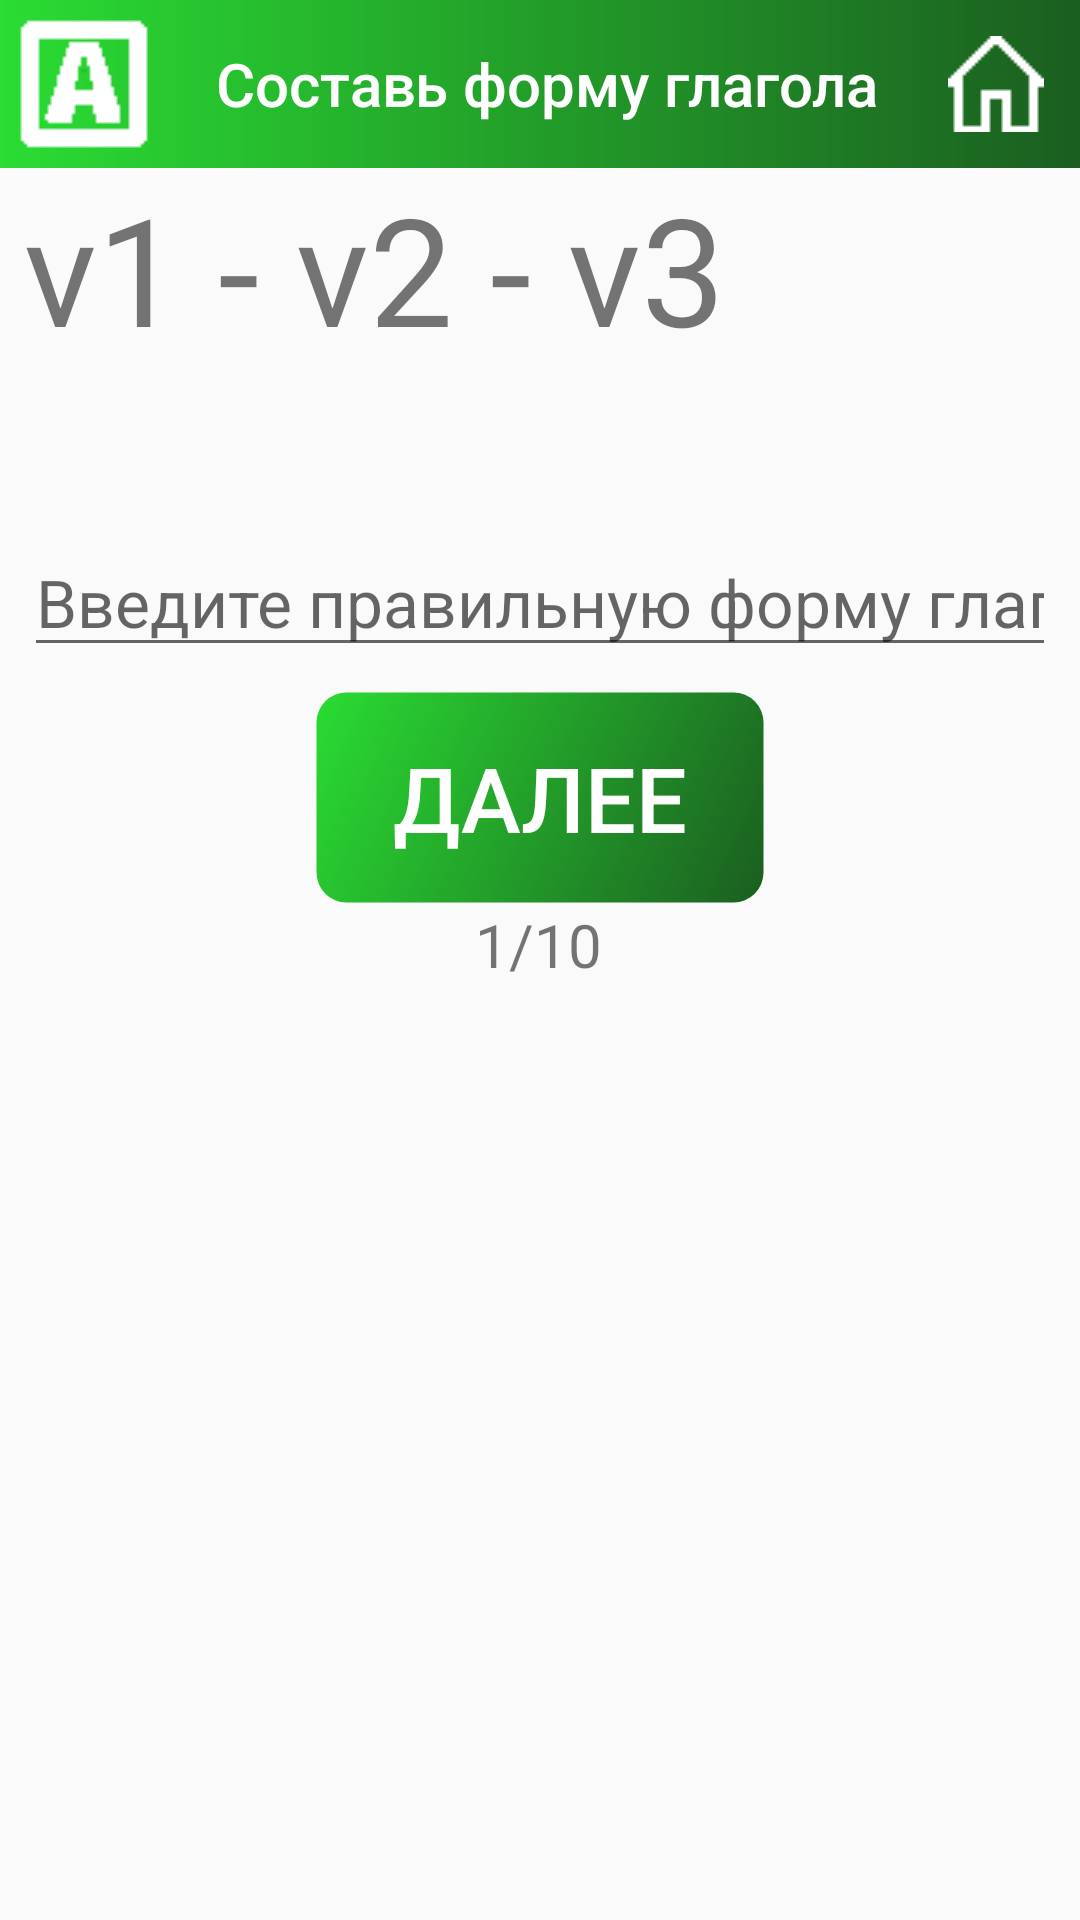

Named icons in this screenshot (1080 × 1920) and their centers, [x,y]:
home: [1014,84]
